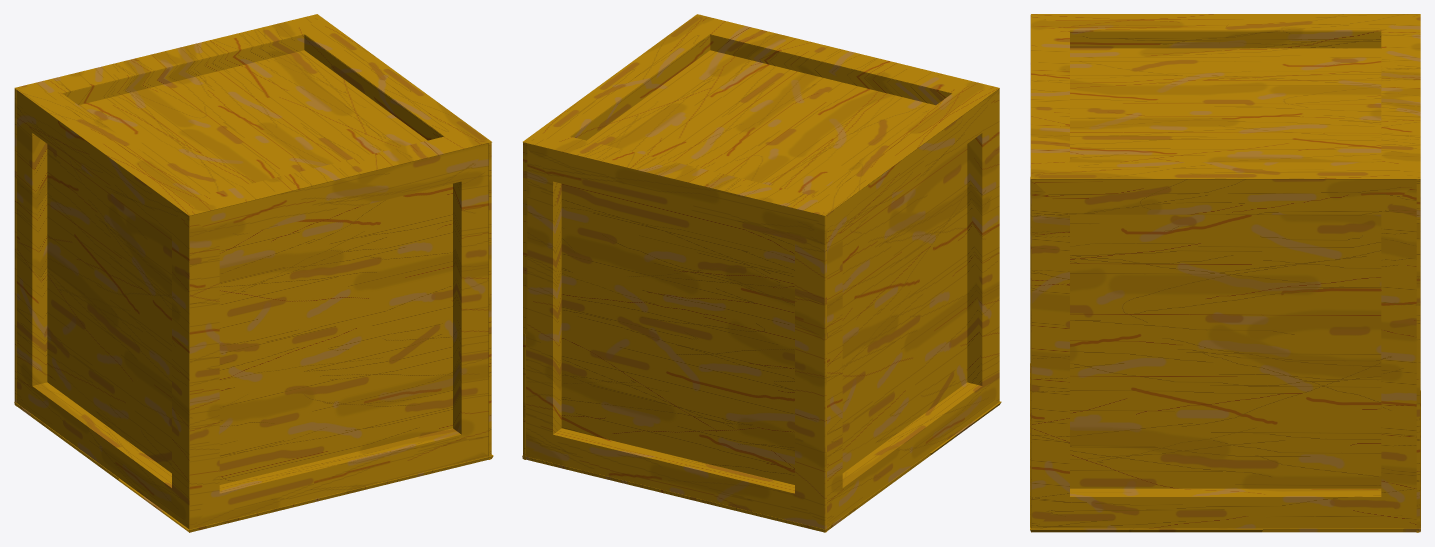
File: Wood Crate 1_BROKEN_2.fbx
The picture shows the model from 3 angles, left to right: view 1: azimuth 30°, elevation 25°; view 2: azimuth 150°, elevation 25°; view 3: azimuth 270°, elevation 25°; orthographic projection. The views are drawn at different scales.
Visible parts, largest first — view 1: Base Crate.004, Base Crate.002, Base Crate.003, Base Crate.006, Base Crate.005, Base Crate.001, Base Crate, Base Crate.011, Base Crate.007; view 2: Base Crate.009, Base Crate.002, Base Crate.005, Base Crate.006, Base Crate.008, Base Crate.007, Base Crate.001, Base Crate.012, Base Crate.010; view 3: Base Crate.011, Base Crate.010, Base Crate.002, Base Crate.001, Base Crate.009, Base Crate, Base Crate.012.
Boxes of the visible parts, left/top/right/bottom form: Base Crate.004: left=189, top=143, right=488, bottom=532; Base Crate.002: left=15, top=14, right=491, bottom=161; Base Crate.003: left=358, top=144, right=488, bottom=486; Base Crate.006: left=16, top=90, right=132, bottom=478; Base Crate.005: left=95, top=148, right=189, bottom=532; Base Crate.001: left=95, top=136, right=491, bottom=215; Base Crate: left=118, top=454, right=493, bottom=532; Base Crate.011: left=488, top=142, right=491, bottom=459; Base Crate.007: left=14, top=88, right=16, bottom=406; Base Crate.009: left=526, top=143, right=826, bottom=455; Base Crate.002: left=523, top=14, right=905, bottom=215; Base Crate.005: left=894, top=89, right=999, bottom=452; Base Crate.006: left=824, top=157, right=930, bottom=532; Base Crate.008: left=526, top=330, right=826, bottom=531; Base Crate.007: left=684, top=215, right=826, bottom=531; Base Crate.001: left=697, top=14, right=999, bottom=156; Base Crate.012: left=522, top=452, right=930, bottom=532; Base Crate.010: left=523, top=142, right=527, bottom=334; Base Crate.011: left=1030, top=177, right=1420, bottom=531; Base Crate.010: left=1030, top=176, right=1420, bottom=391; Base Crate.002: left=1031, top=14, right=1420, bottom=179; Base Crate.001: left=1031, top=14, right=1239, bottom=178; Base Crate.009: left=1416, top=179, right=1420, bottom=532; Base Crate: left=1030, top=363, right=1262, bottom=532; Base Crate.012: left=1262, top=528, right=1420, bottom=532.
Size of the model in its own units: 202 by 201 by 201.
1 material, 1 textured.
